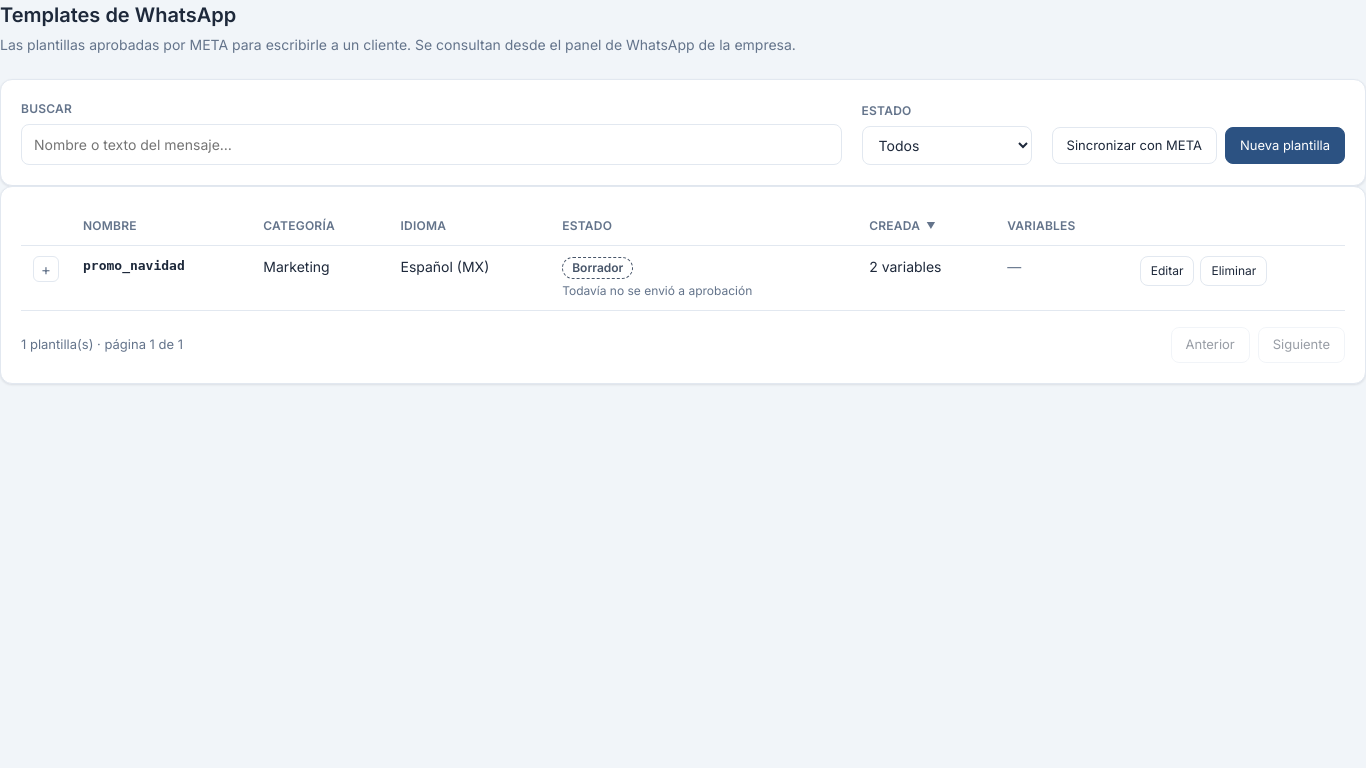
Scenario: PlantillasPanel — reabrir un borrador › si el borrador no se puede traer, se abre igual y avisa
Click the button "Editar".
click(1167, 271)  # box [1140,256,1194,286]
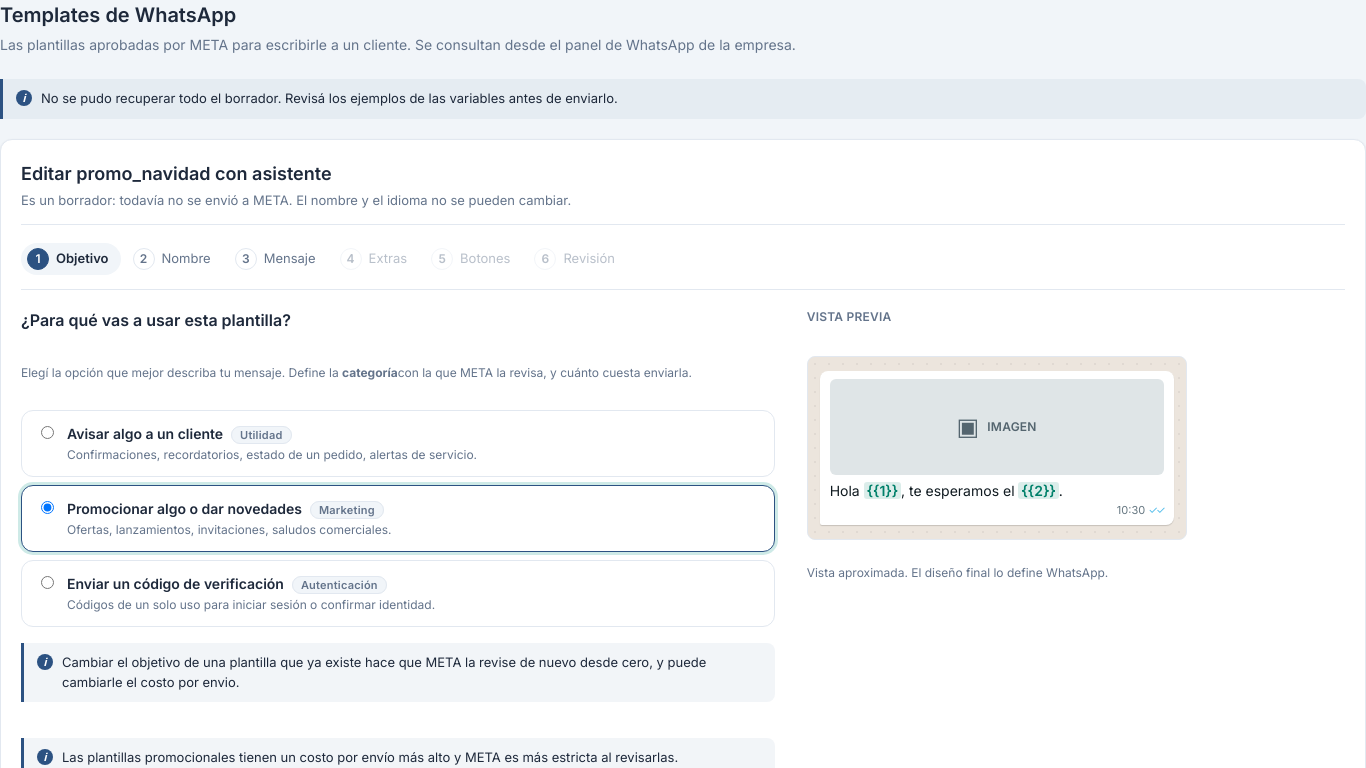
Check: the text "No se pudo recuperar todo el borrador" is shown, box [41,90,618,106]
Check: the button "3 Mensaje" is shown, box [229,243,328,275]
